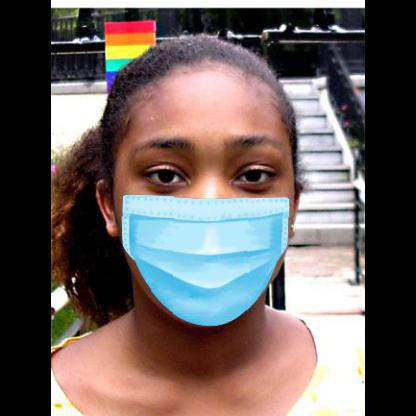Surgical Mask: (106, 108, 286, 326)
